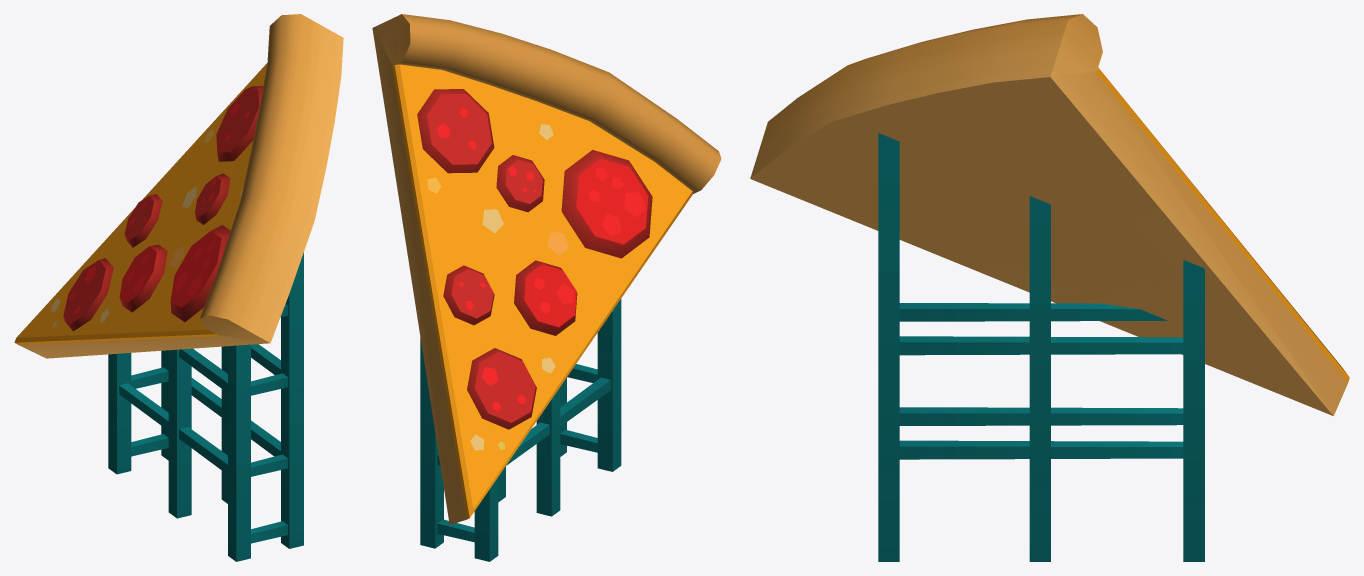
File: PizzaSign_3_A.fbx
3 renders of one model, left to right at view 1: azimuth 30°, elevation 25°; view 2: azimuth 150°, elevation 25°; view 3: azimuth 270°, elevation 25°, orthographic. The views are drawn at different scales.
Parts seen in each view (by area): view 1: PizzaSign_3_A; view 2: PizzaSign_3_A; view 3: PizzaSign_3_A.
Part boxes in pixels (x1,y1,x2,y2): PizzaSign_3_A: [14, 14, 343, 561]; PizzaSign_3_A: [372, 14, 721, 561]; PizzaSign_3_A: [750, 14, 1349, 561].
Bounding box in the file's own units: 192 × 354 × 328.
